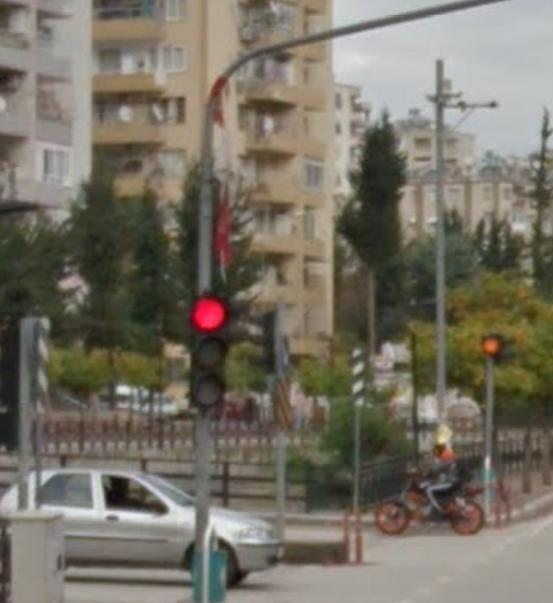redlight: (185, 292, 229, 413)
